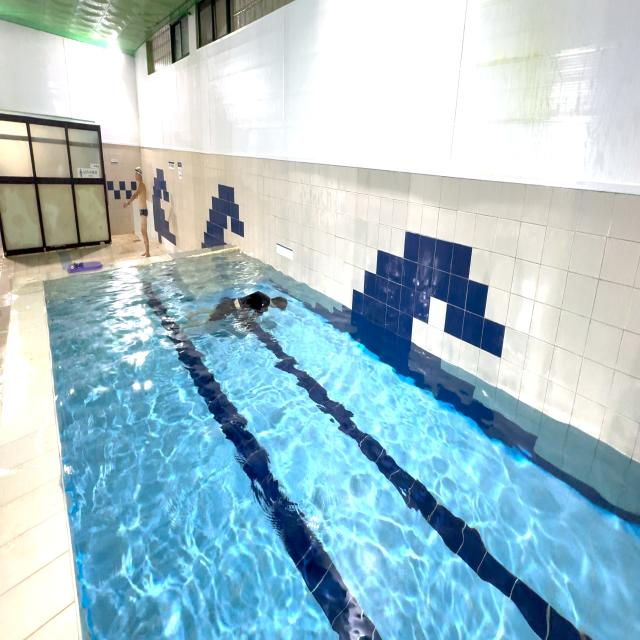Drowning: (178, 282, 292, 337)
